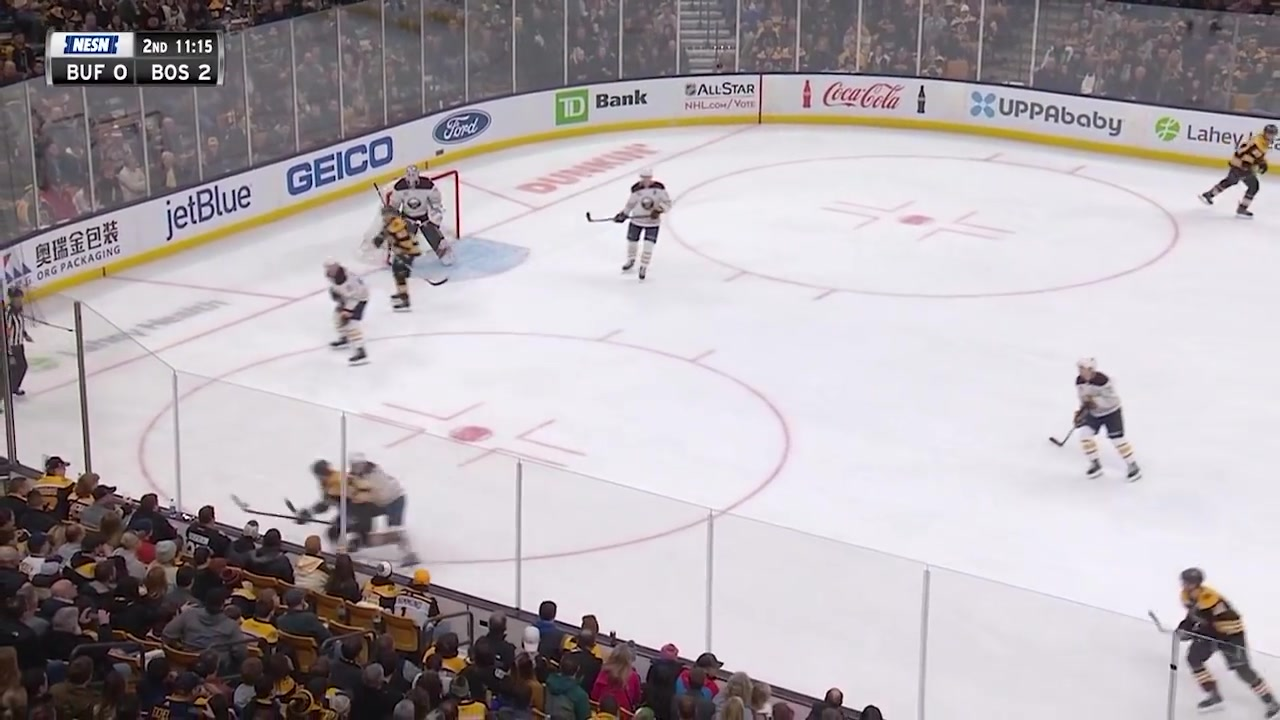Geico: (287, 130, 397, 195)
